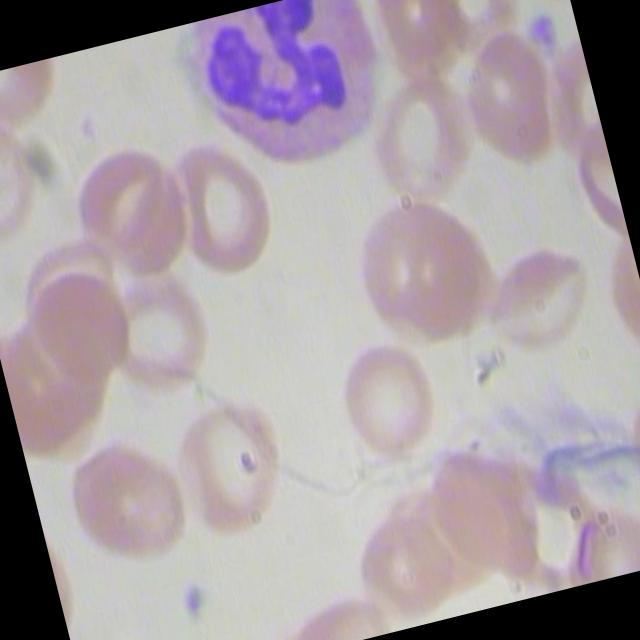Platelets: (523, 3, 569, 62), (175, 574, 222, 626)
RBC: (344, 179, 512, 361), (158, 380, 302, 551), (58, 420, 202, 578), (439, 17, 578, 178), (468, 215, 606, 365), (61, 134, 196, 284), (356, 61, 491, 211), (148, 132, 282, 282), (94, 254, 228, 404), (320, 328, 449, 474), (342, 489, 468, 628), (0, 105, 57, 252)
WBC: (158, 0, 406, 188)
